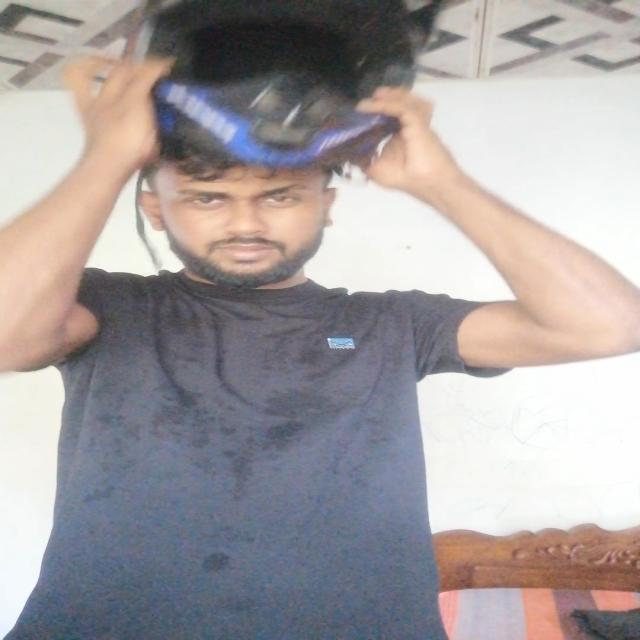Helmet_Wearer: (83, 0, 434, 262)
Person: (0, 76, 635, 640)
